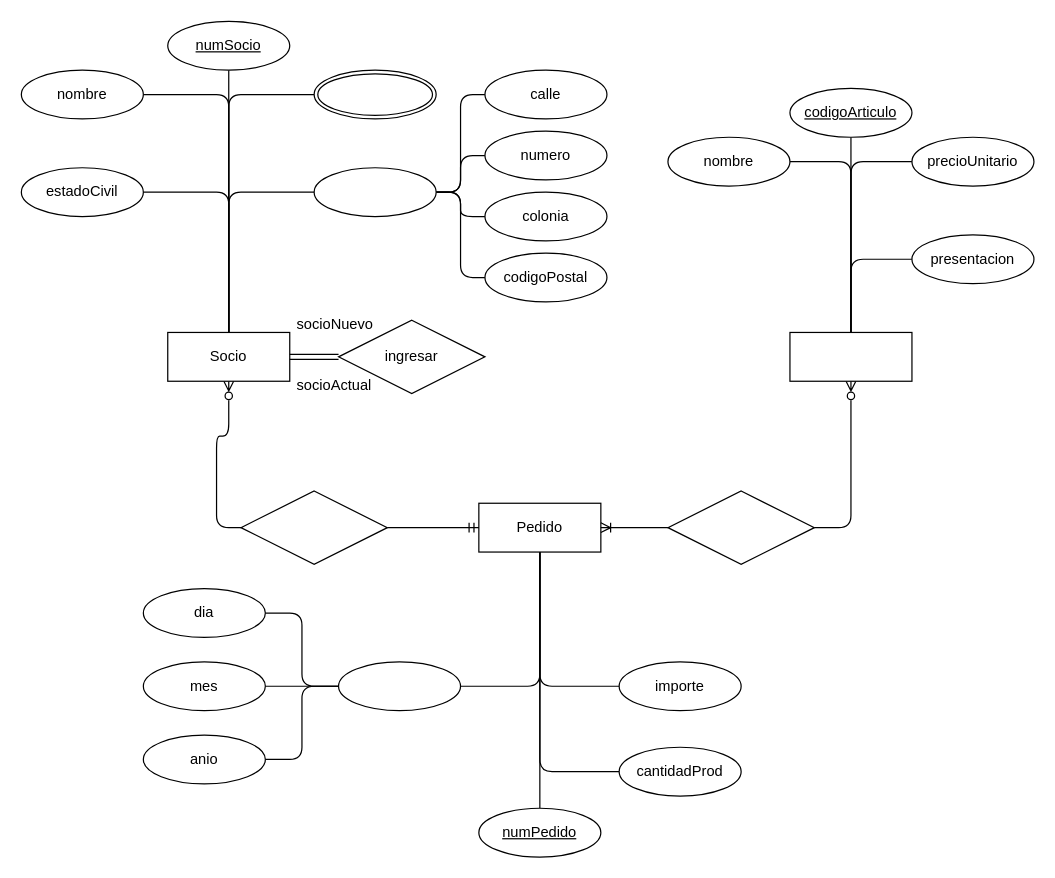
Image size: 1055x878. Some labels were removed from this diagram. Here are the shapes that lost their labels. From the top down, the centre of each, then its label:
At pixel 374 94: "telefono".
At pixel 374 192: "direccion".
At pixel 850 356: "Articulo".
At pixel 313 527: "Realizar".
At pixel 740 527: "Compuesto".
At pixel 399 686: "fecha".
